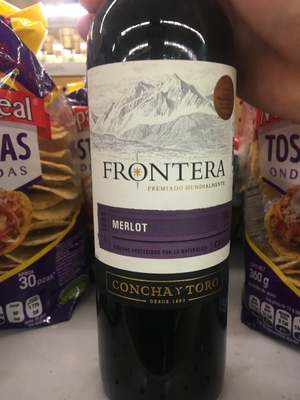frontera merlot: (71, 12, 270, 377)
